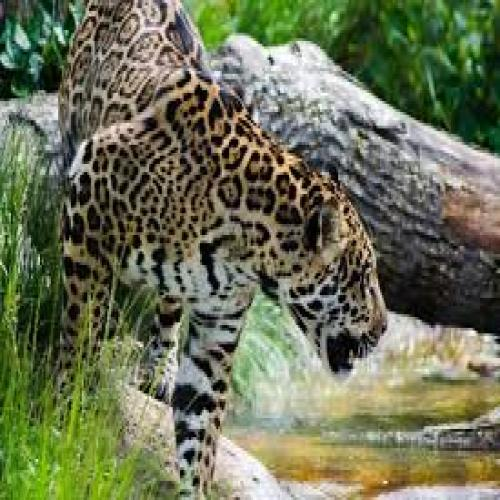jaguar_not-endangered: (67, 0, 389, 500)
